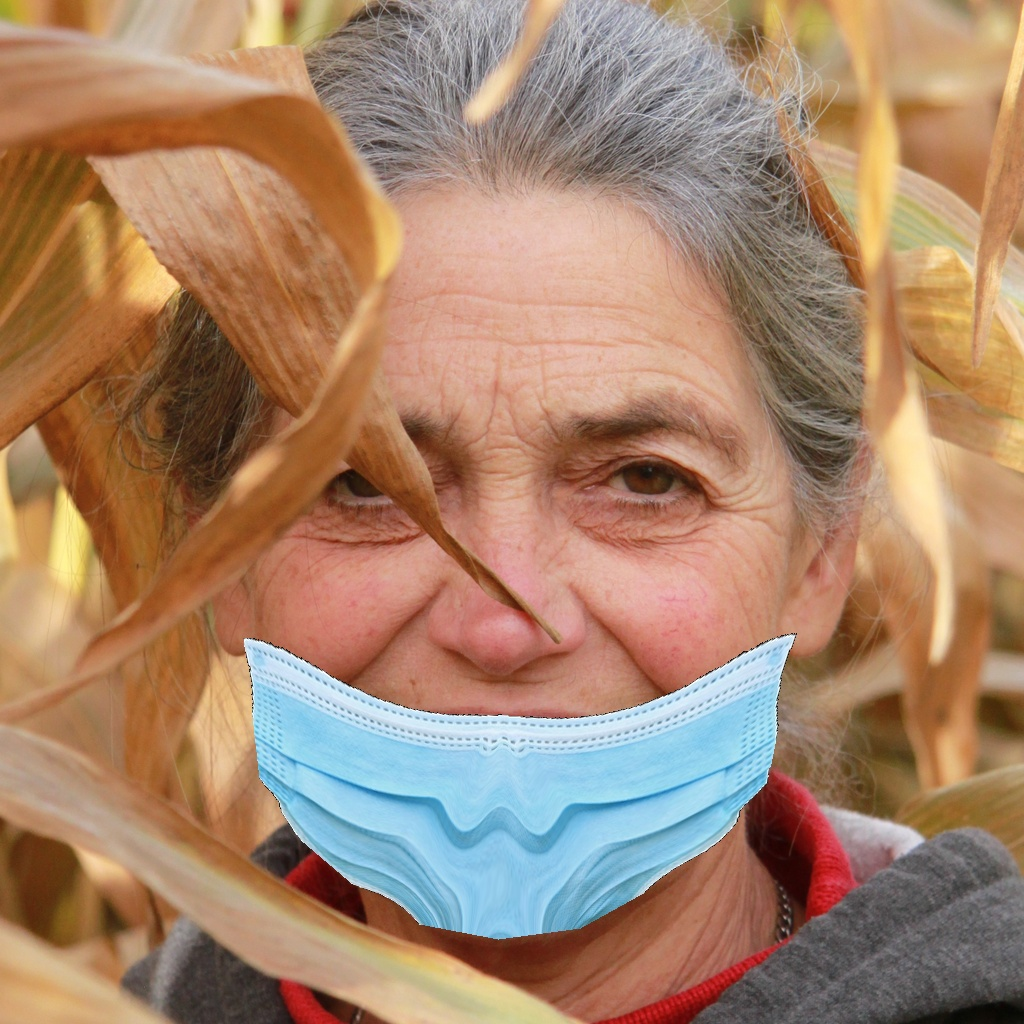mask_weared_incorrect: (196, 356, 834, 948)
